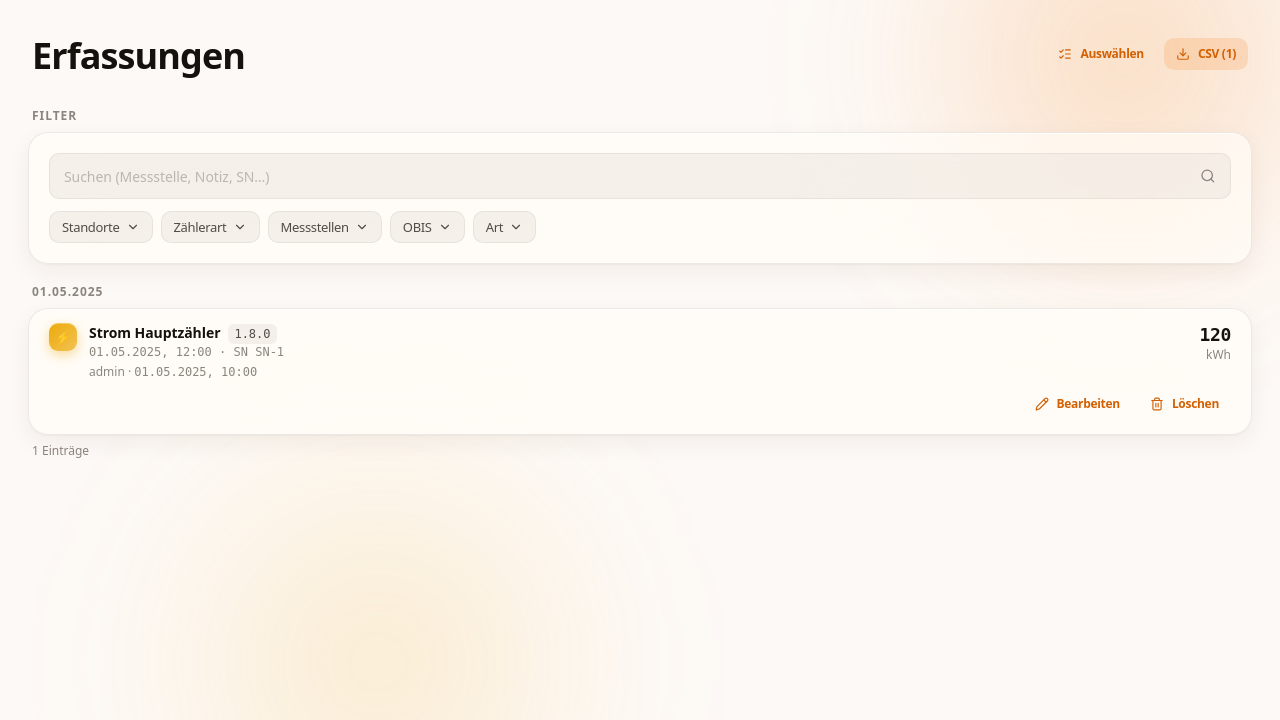
ReadingsListPage — Mehrfach-Löschen › filtert die Liste über das Zählerart-Dropdown
The image size is (1280, 720).
Check: the text "Strom Hauptzähler" is shown, box [89,323,220,343]
// Zählerart-Dropdown öffnen, "Wasser" wählen → Strom-Erfassung fällt raus.
Click the button "Zählerart" at (210, 227), box [160,211,260,243]
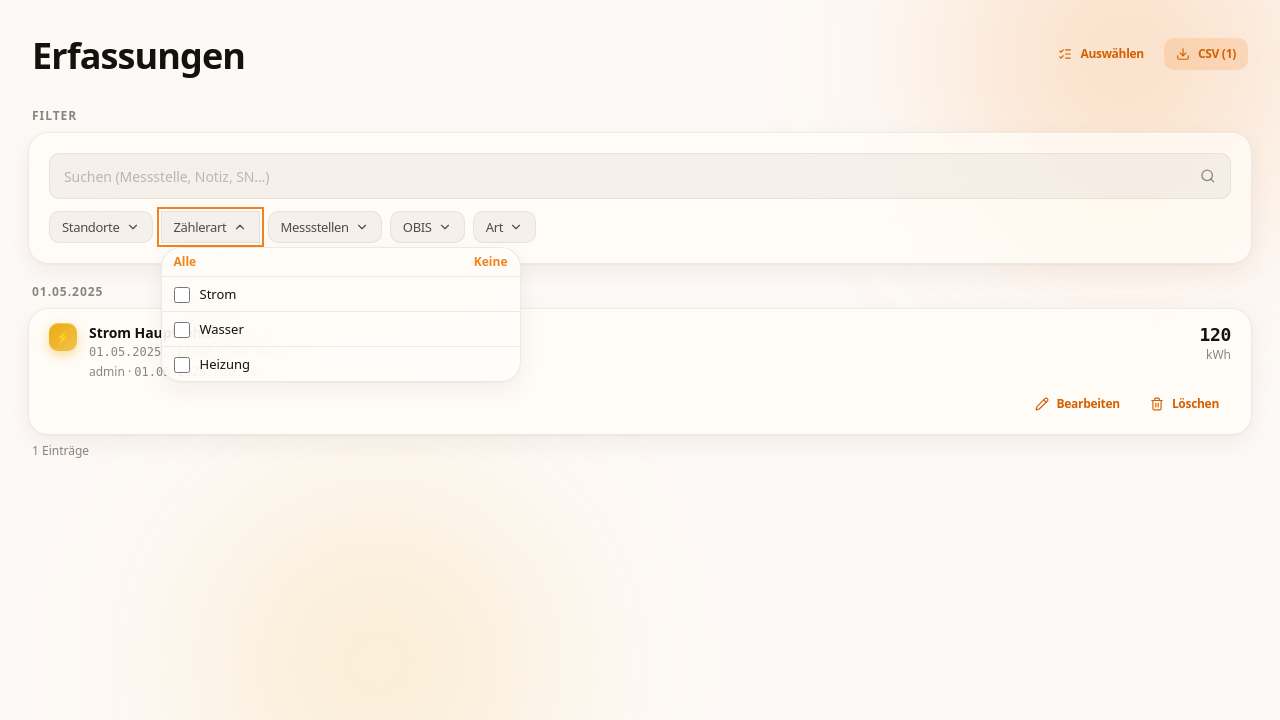
Click the checkbox labelled "Wasser" at (182, 330), box [174,322,190,338]
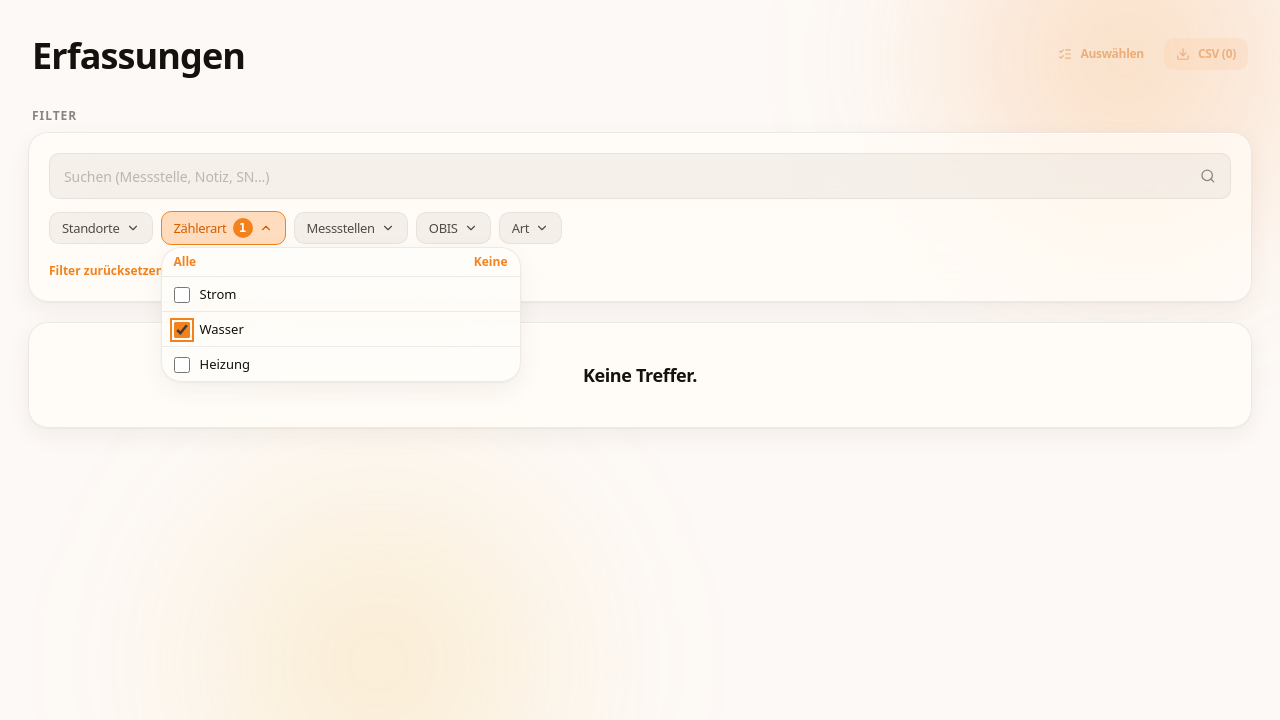
Check: the text "Keine Treffer." is shown, box [583,363,697,387]
Check: the text "Strom Hauptzähler" is gone
